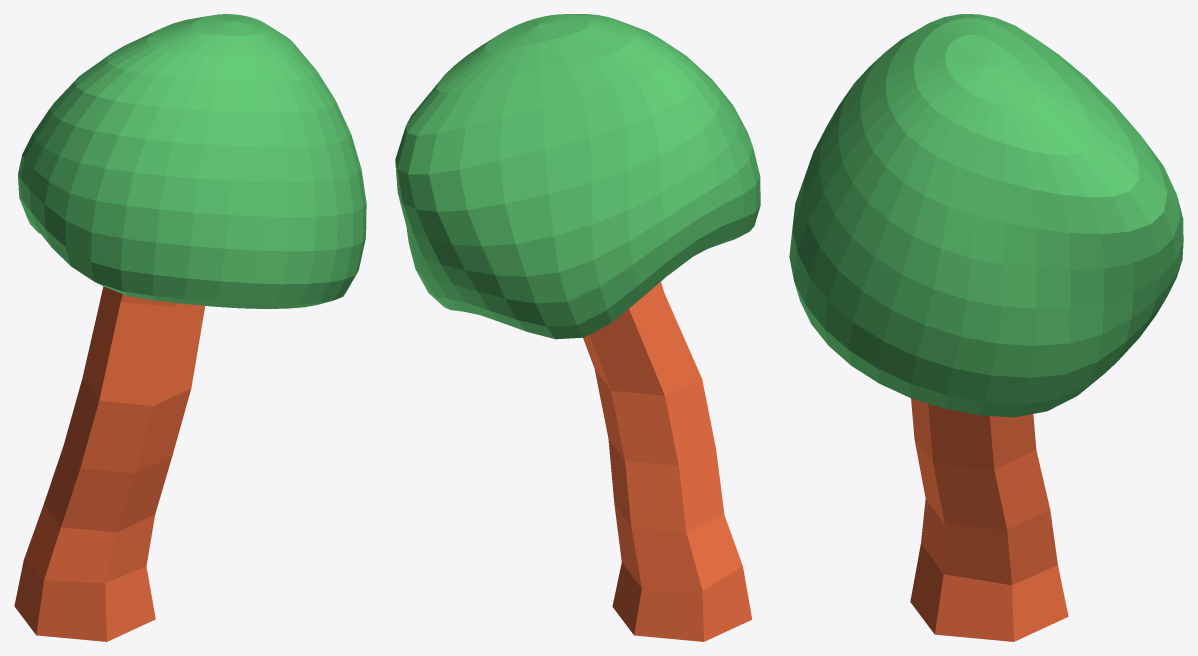
Rendered from Tree04.fbx.
3 renders of one model, left to right at view 1: azimuth 30°, elevation 25°; view 2: azimuth 150°, elevation 25°; view 3: azimuth 270°, elevation 25°, orthographic. The views are drawn at different scales.
Visible parts, largest first — view 1: Sphere.003; view 2: Sphere.003; view 3: Sphere.003.
Part boxes in pixels (x1,y1,x2,y2): Sphere.003: [14, 14, 366, 641]; Sphere.003: [395, 14, 760, 641]; Sphere.003: [789, 14, 1183, 641].
Bounding box in the file's own units: 1483 × 2525 × 1430.
